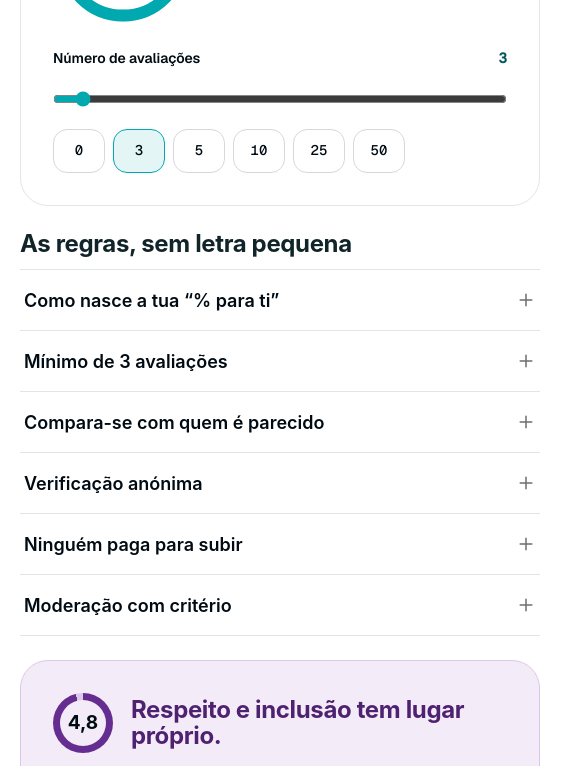
it: Metodologia (mobile) › regras: abre uma de cada vez
(page scrolled)
Click the button "Mínimo de 3 avaliações": (126, 361) [20,331,540,391]
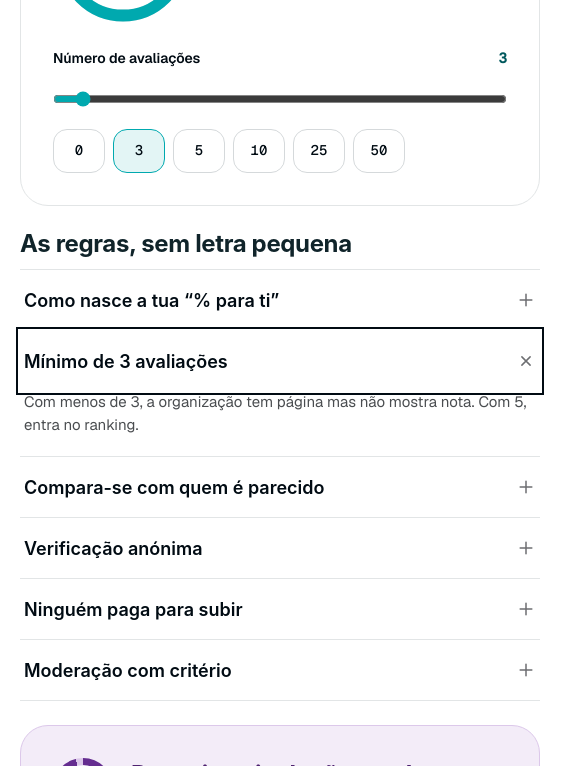
Now the button "Mínimo de 3 avaliações" is expanded, box [20,331,540,391]
Now the text "Com 5, entra no ranking." is shown, box [24,392,527,434]
Click the button "Moderação com critério": (128, 670) [20,640,540,700]
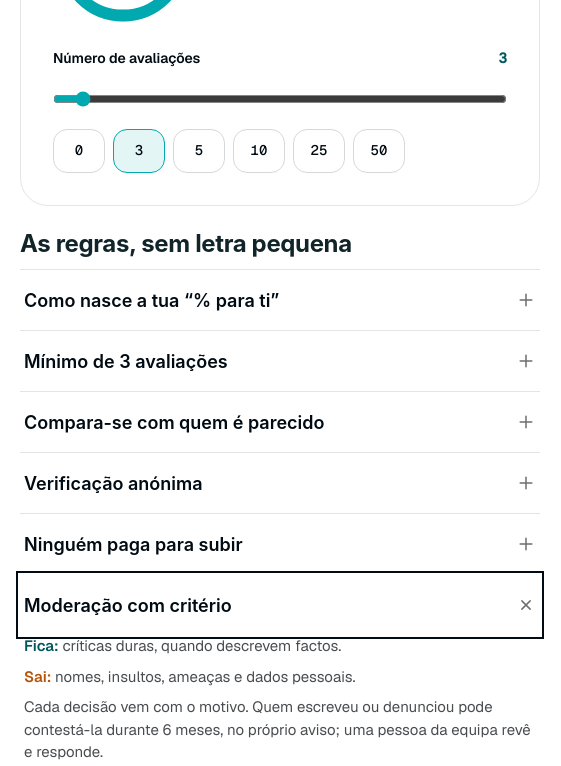
Now the text "Fica: críticas duras, quando descrevem factos." is shown, box [24,636,341,655]
Now the text "pode contestá-la durante 6 meses" is shown, box [24,697,531,761]
Click the button "Moderação com critério": (128, 605) [20,575,540,635]
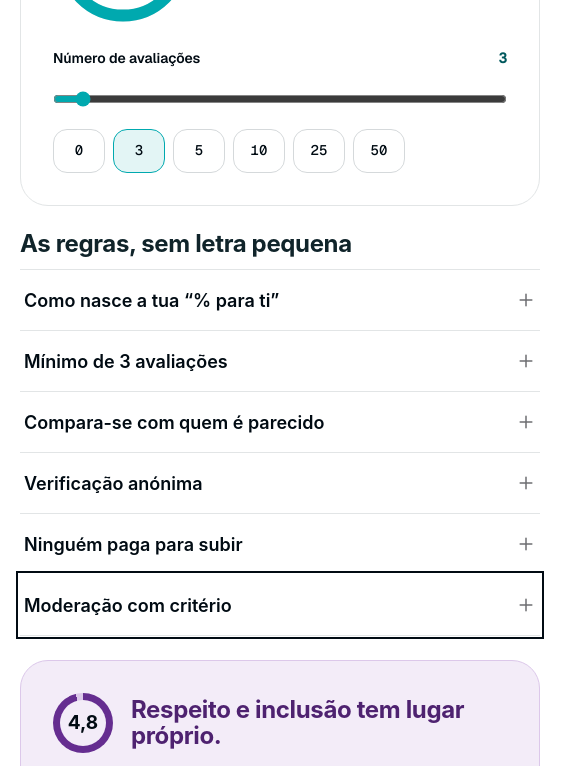
Now the text "críticas duras" is gone
